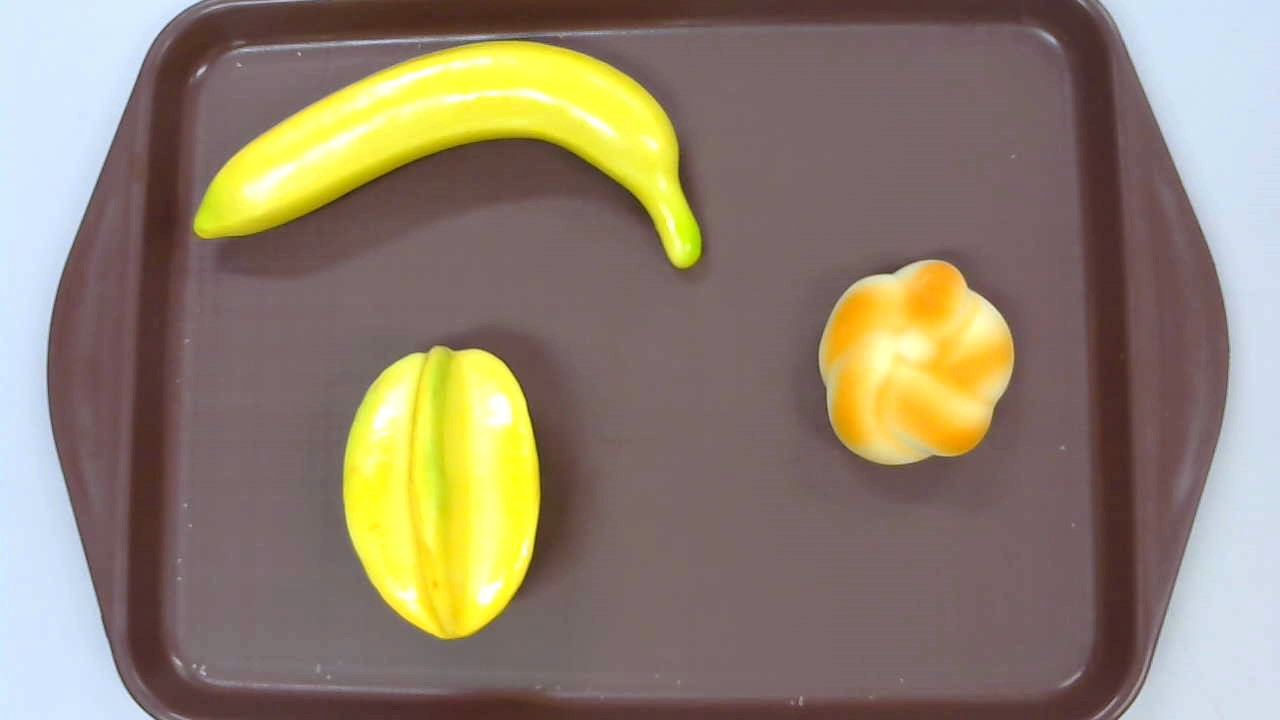banana: (193, 41, 702, 272)
star fruit: (341, 346, 540, 640)
twist bread: (818, 259, 1014, 466)
